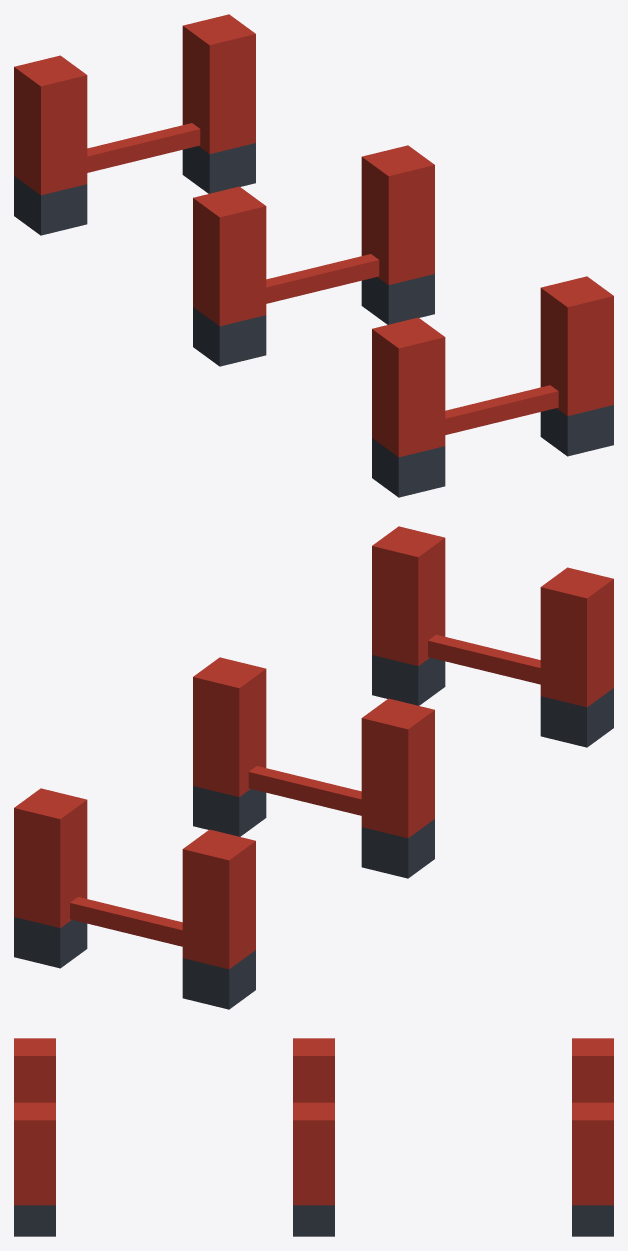
The model's file is bridge_part_01.FBX.
3 views of the same model, one above another, from view 1: azimuth 30°, elevation 25°; view 2: azimuth 150°, elevation 25°; view 3: azimuth 270°, elevation 25° (orthographic). The views are drawn at different scales.
Parts seen in each view (by area): view 1: bridge_part_01; view 2: bridge_part_01; view 3: bridge_part_01.
Part boxes in pixels (x1,y1,x2,y2): bridge_part_01: (14,14,613,497); bridge_part_01: (14,526,613,1009); bridge_part_01: (14,1038,613,1236).
Bounding box in the file's own units: 694 × 2150 × 460.
1 material, 1 textured.
